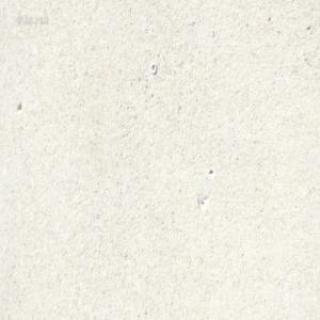Washertrack_idkeyframe: (150, 61, 156, 73)
